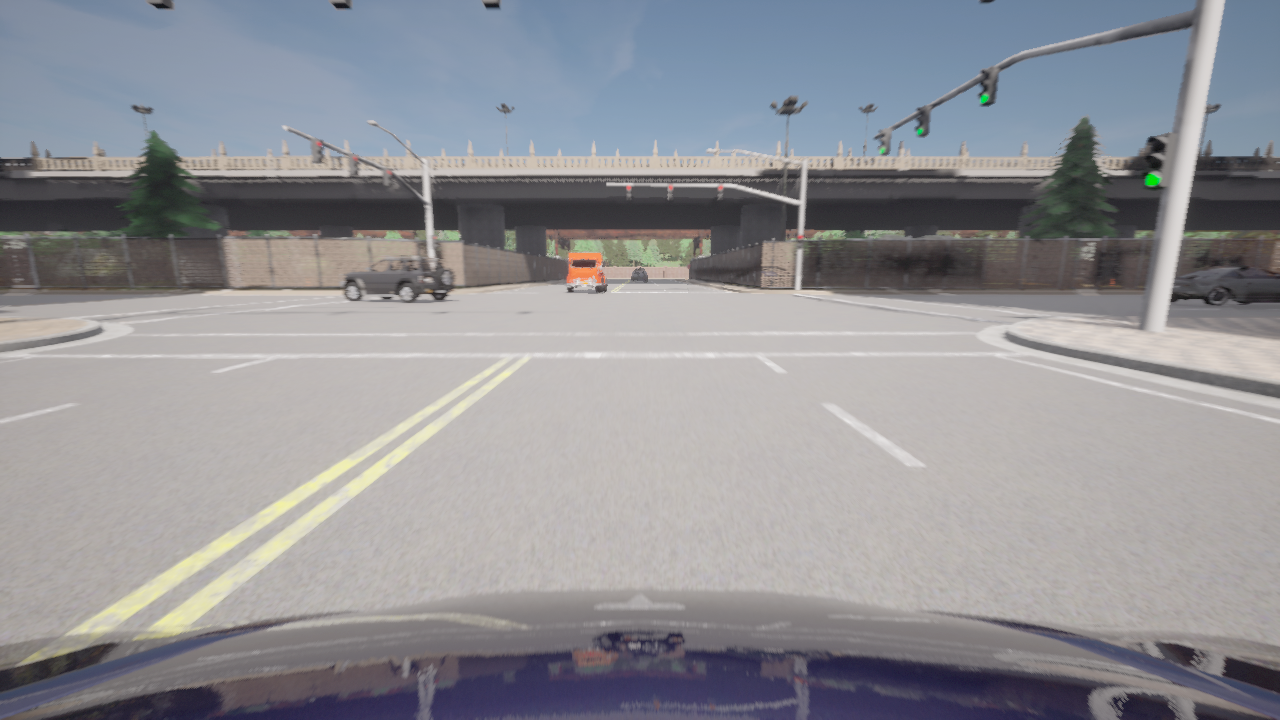cyclist: (0, 588, 1279, 719), (340, 255, 455, 303), (1168, 267, 1279, 305), (562, 252, 606, 292), (633, 268, 646, 281), (635, 279, 643, 280)
